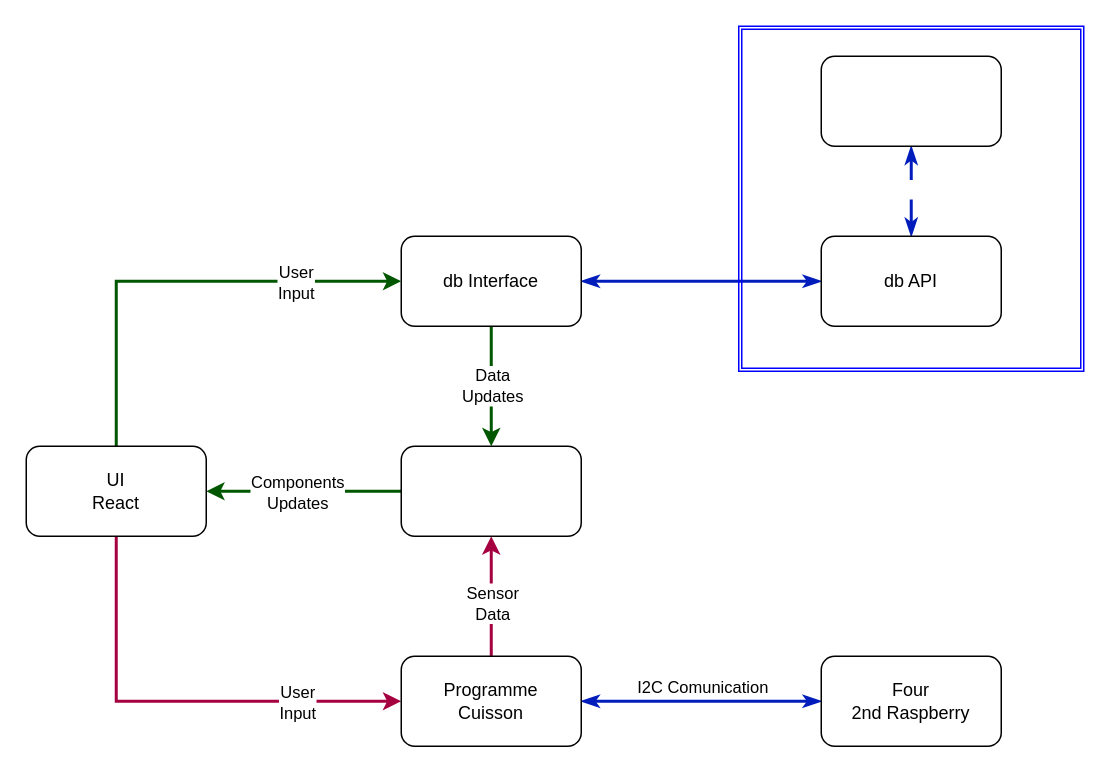
Some shapes in this 1110 by 773 pixel diagram are drawn without their labels. The box of each missing label's shape, as (x1, y1, x2, y2) in pixels:
db: (820, 55, 1001, 146)
State Manager Redux: (400, 445, 581, 536)
